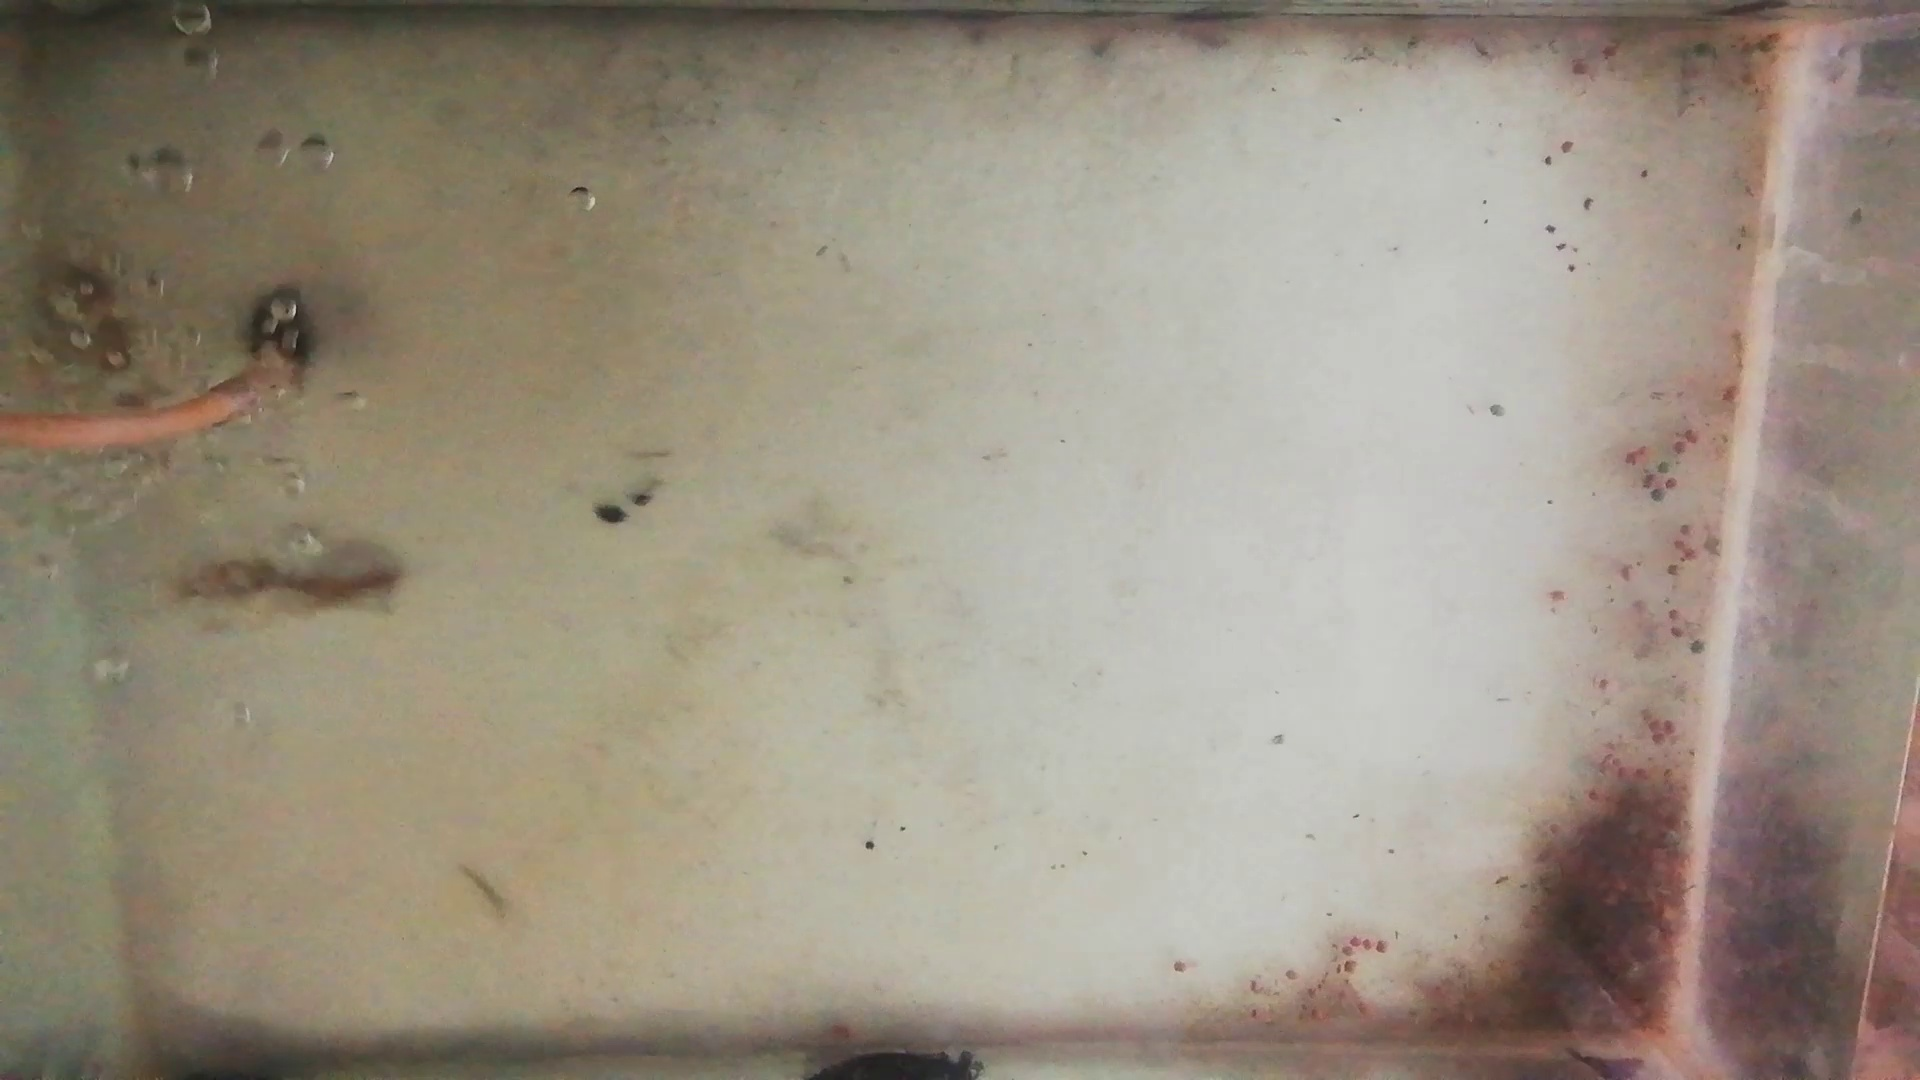fish: (33, 256, 169, 404), (169, 541, 401, 622)
